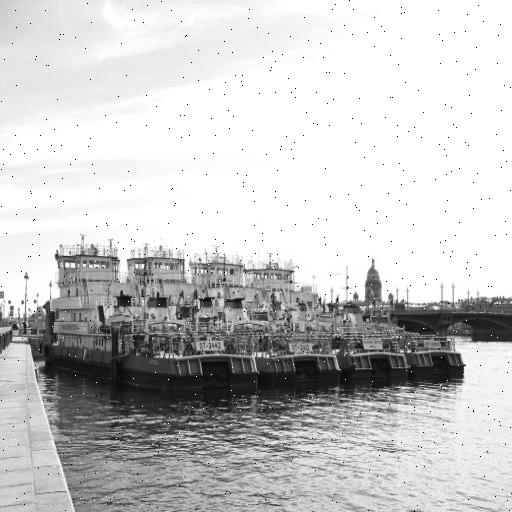tugboat: (42, 228, 264, 404)
